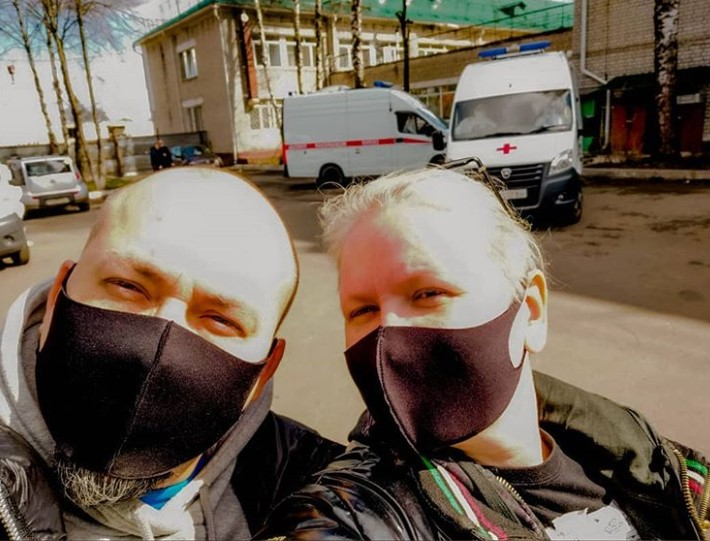face_with_mask: (29, 164, 304, 489), (324, 167, 552, 467)
